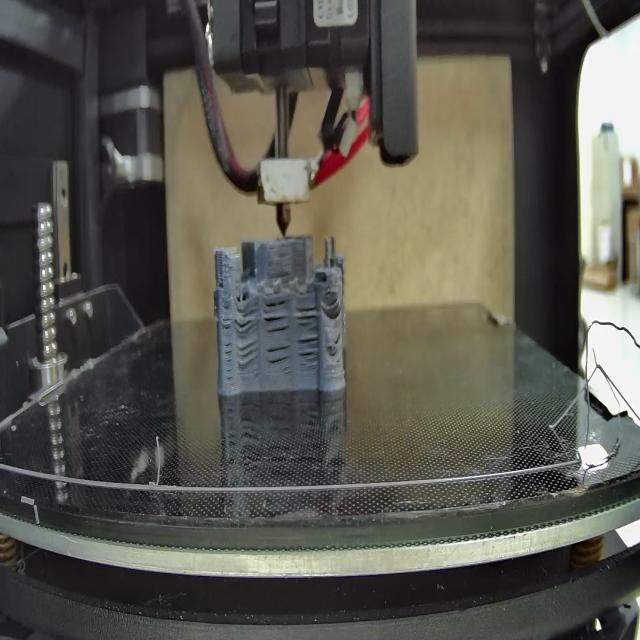cracks: (264, 339, 291, 378), (263, 299, 291, 334), (297, 336, 320, 374), (236, 339, 259, 374), (222, 317, 232, 383), (297, 304, 319, 329), (235, 309, 258, 329), (324, 296, 342, 316), (328, 335, 343, 358), (218, 275, 227, 291)
